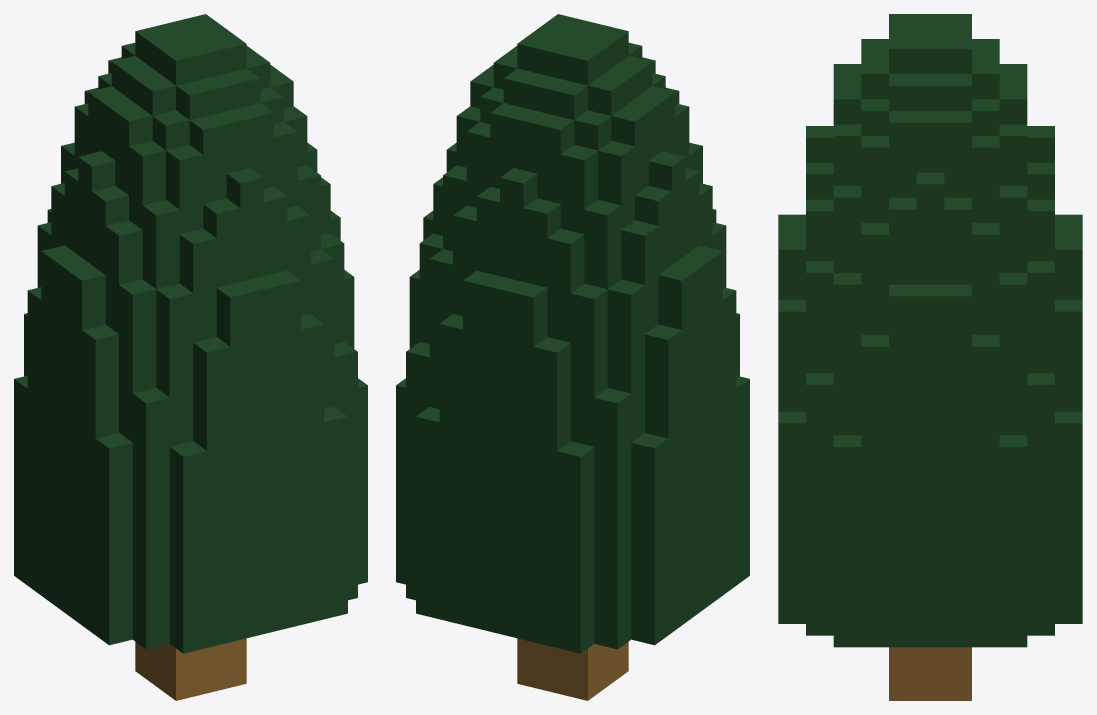
The model's file is tree_1.glb.
The picture shows the model from 3 angles, left to right: view 1: azimuth 30°, elevation 25°; view 2: azimuth 150°, elevation 25°; view 3: azimuth 270°, elevation 25°; orthographic projection.
Parts seen in each view (by area): view 1: pl0; view 2: pl0; view 3: pl0.
Part boxes in pixels (bbox=[...]): pl0: bbox=[14, 14, 367, 700]; pl0: bbox=[396, 14, 749, 700]; pl0: bbox=[778, 14, 1082, 700].
Size of the model in its own units: 11 by 26 by 11.
Materials: 1 (1 with a texture image).
